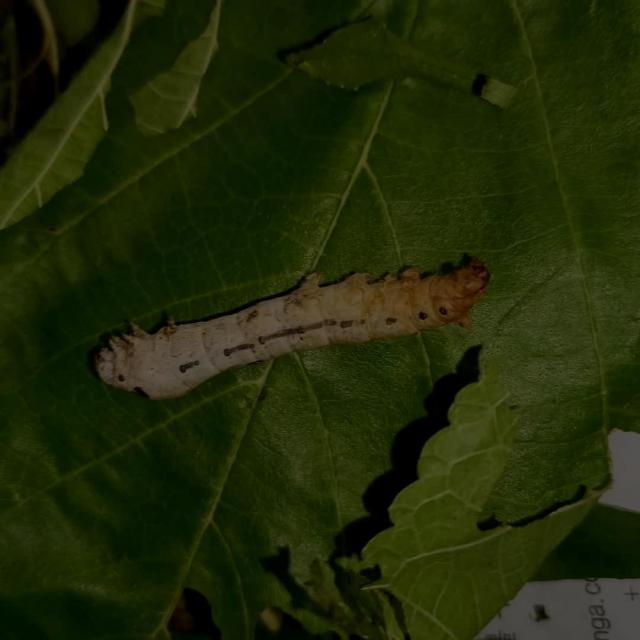Grasserie: (74, 244, 503, 413)
